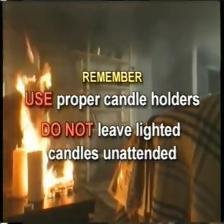fire: (7, 38, 74, 196)
